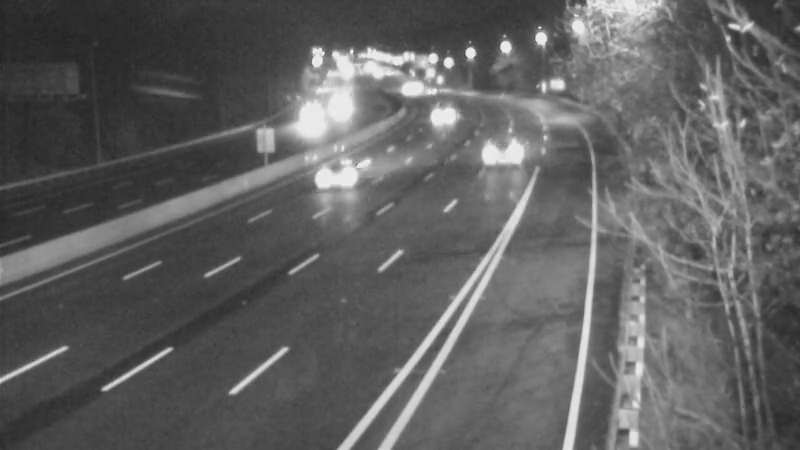vehicle: (298, 139, 378, 219), (382, 68, 432, 118), (406, 63, 456, 113), (426, 83, 476, 133), (480, 125, 530, 175), (279, 92, 329, 142), (312, 78, 362, 128)
